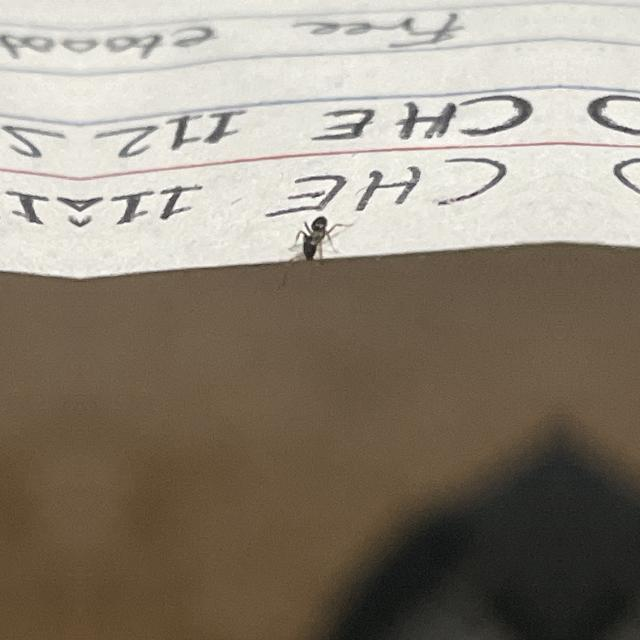Tapinoma: (276, 208, 346, 266)
